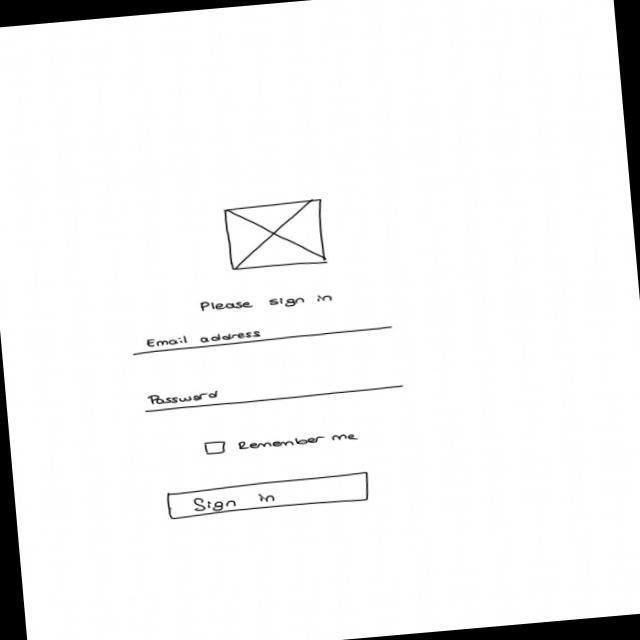button: (165, 471, 372, 521)
checkbox: (203, 428, 361, 458)
image: (224, 198, 329, 273)
input: (144, 372, 405, 414), (132, 317, 394, 357)
label: (199, 290, 335, 317)
